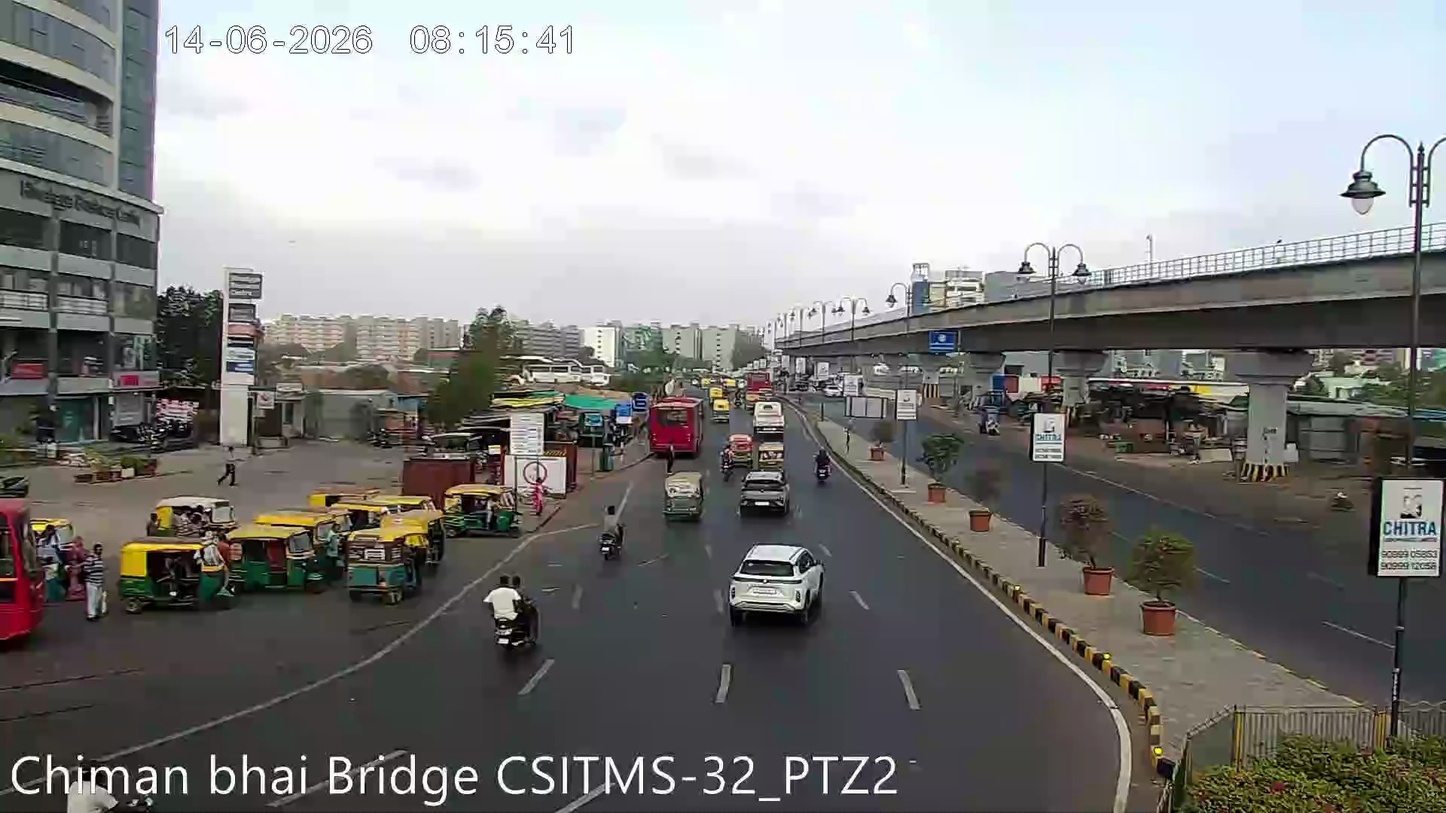auto_rickshaw: (221, 505, 335, 592), (115, 534, 233, 611), (343, 519, 425, 602), (441, 480, 523, 534), (661, 464, 706, 520), (709, 389, 731, 419)
bus: (0, 488, 53, 659), (648, 394, 701, 453)
car: (725, 537, 826, 621), (738, 465, 792, 515)
pedestrian: (82, 571, 109, 624)
two_wheeler: (481, 573, 541, 656), (594, 501, 627, 564), (812, 445, 835, 488)
